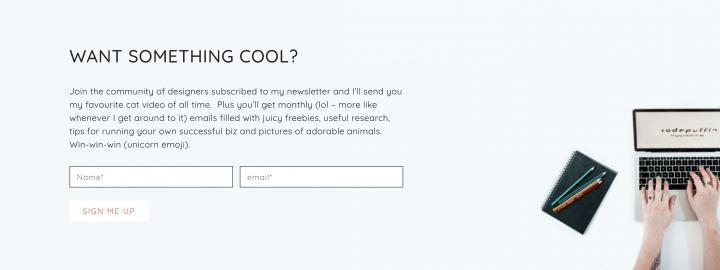button: (69, 200, 149, 224)
input: (240, 165, 404, 190), (69, 166, 235, 190)
